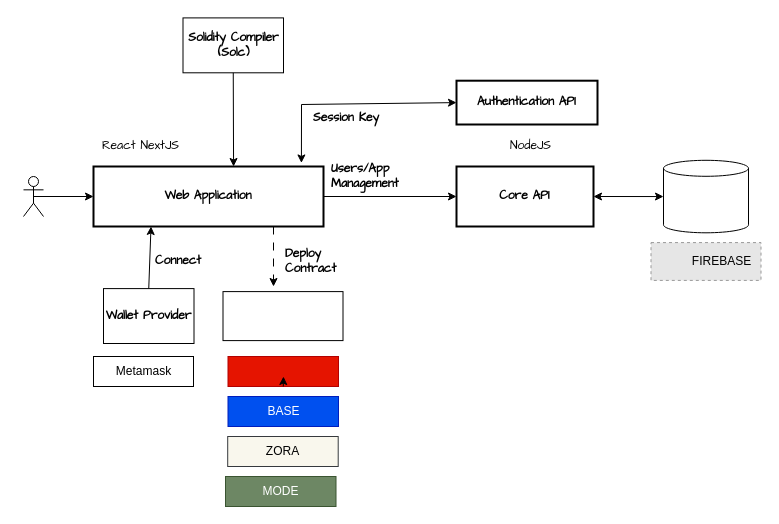
Image size: 779x524. Some labels were removed from this diagram. Grey dashed boxes stand in for pictures. Each missing label, with the box of its shape:
Blockchain: (222, 291, 343, 341)
Offchain Database: (662, 159, 748, 233)
OPTIMISM: (227, 356, 338, 386)
Users: (22, 176, 44, 216)
